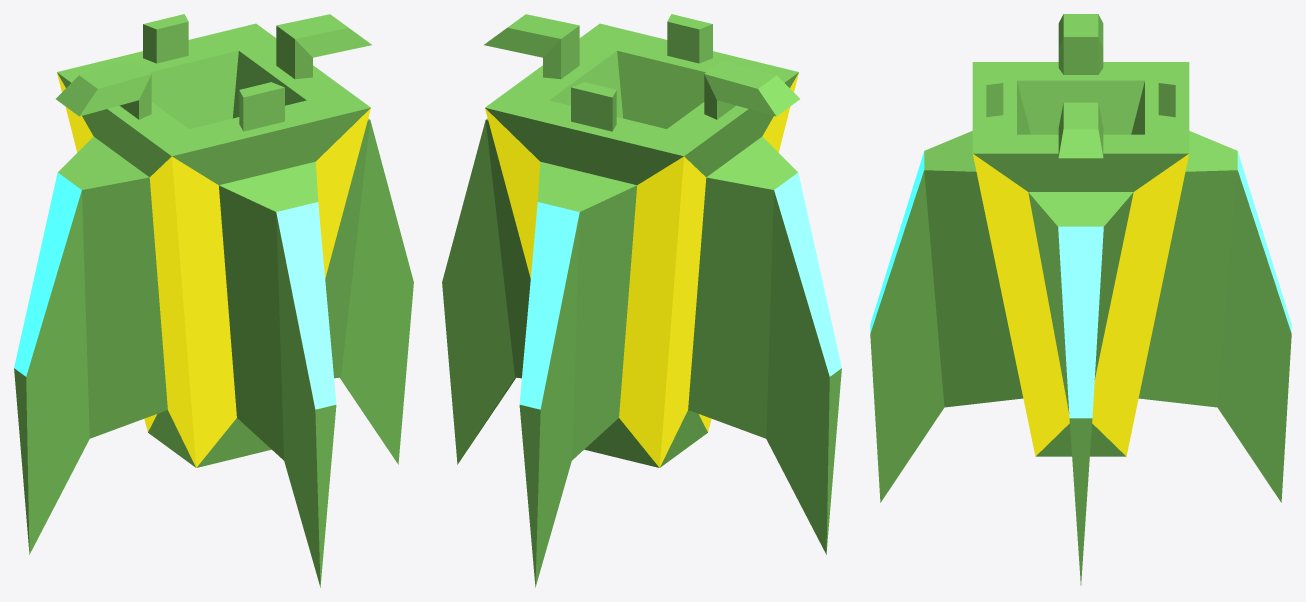
Rendered from jump.fbx.
3 views of the same model, side by side, from view 1: azimuth 30°, elevation 25°; view 2: azimuth 150°, elevation 25°; view 3: azimuth 270°, elevation 25° (orthographic). The views are drawn at different scales.
Visible parts, largest first — view 1: jump; view 2: jump; view 3: jump.
Boxes of the visible parts, box(x1,y1,x2,y2) form: jump: box(14, 14, 413, 587); jump: box(442, 14, 841, 587); jump: box(870, 14, 1291, 585).
Bounding box in the file's own units: 63.05 × 71.52 × 63.05.
